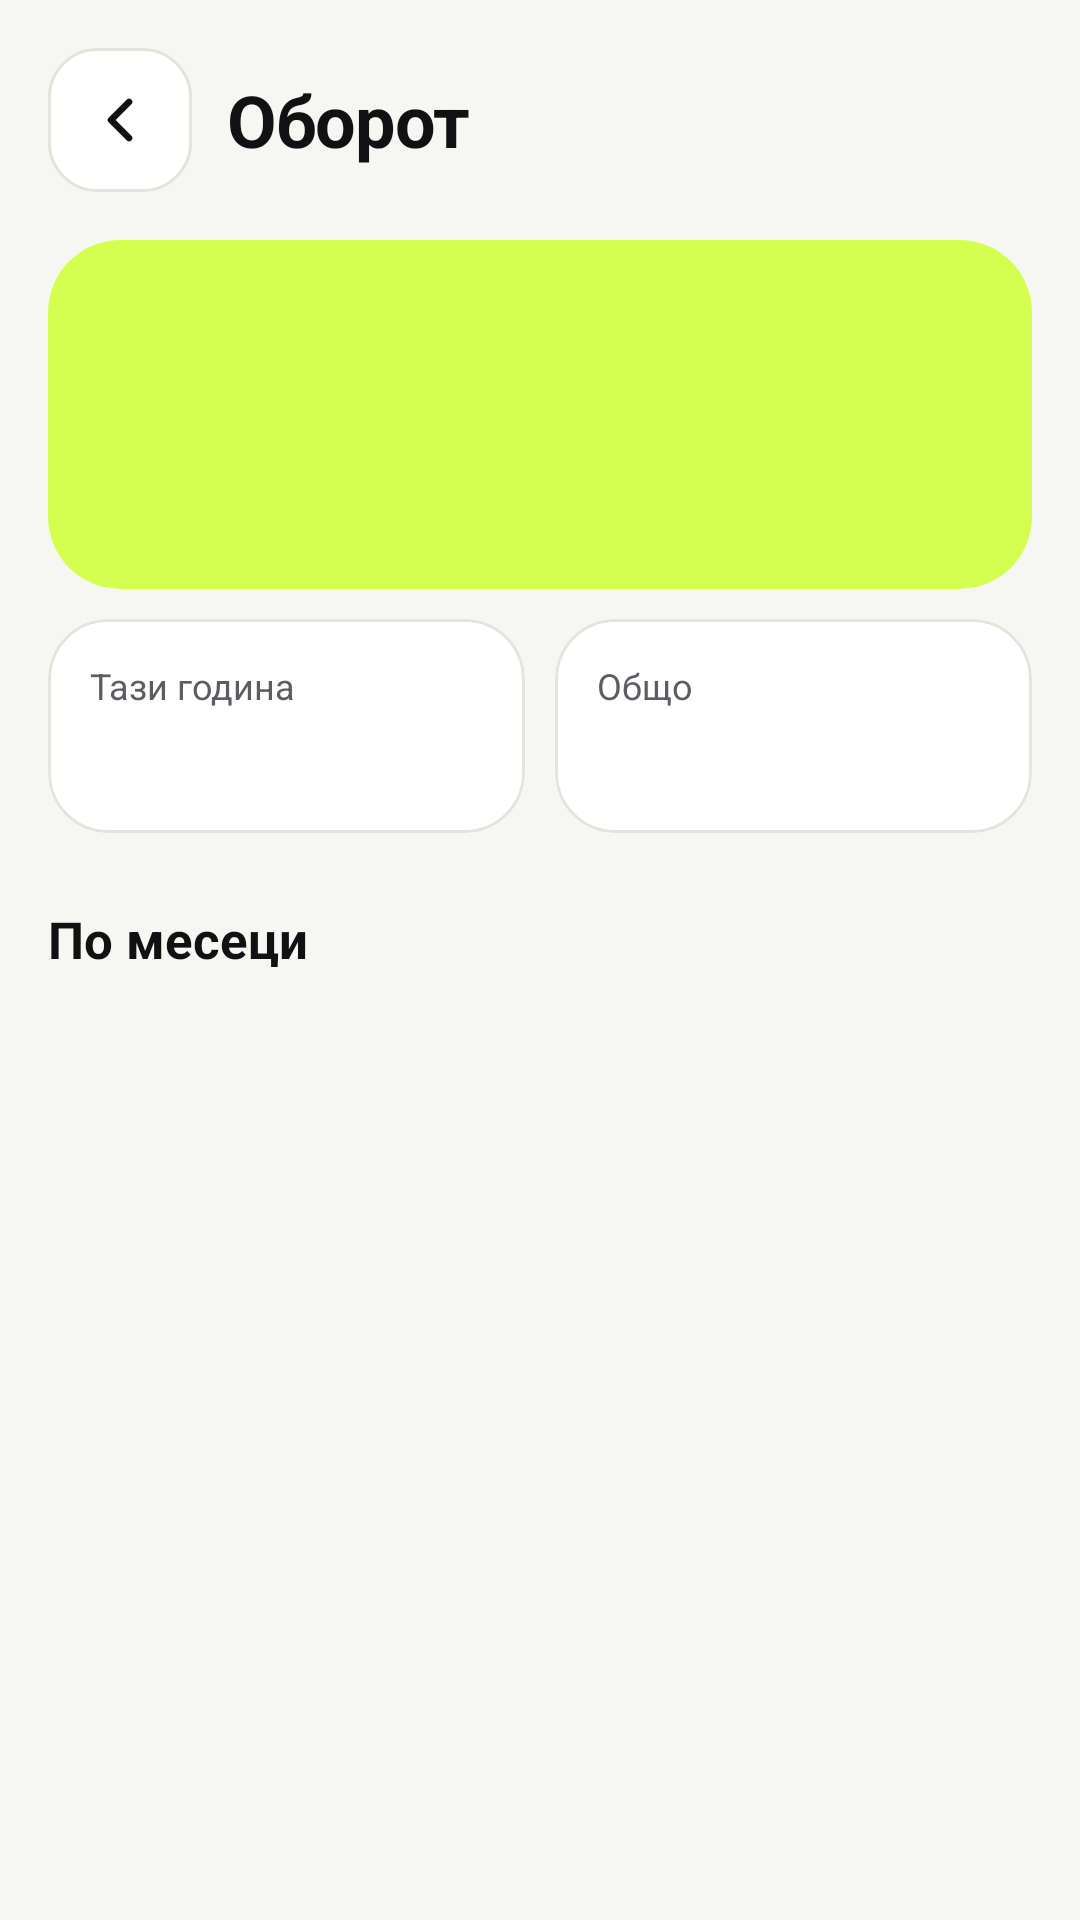

Screen size 1080×1920. Icon name, then its center in pixels as [x,y]:
Назад: [120,120]
